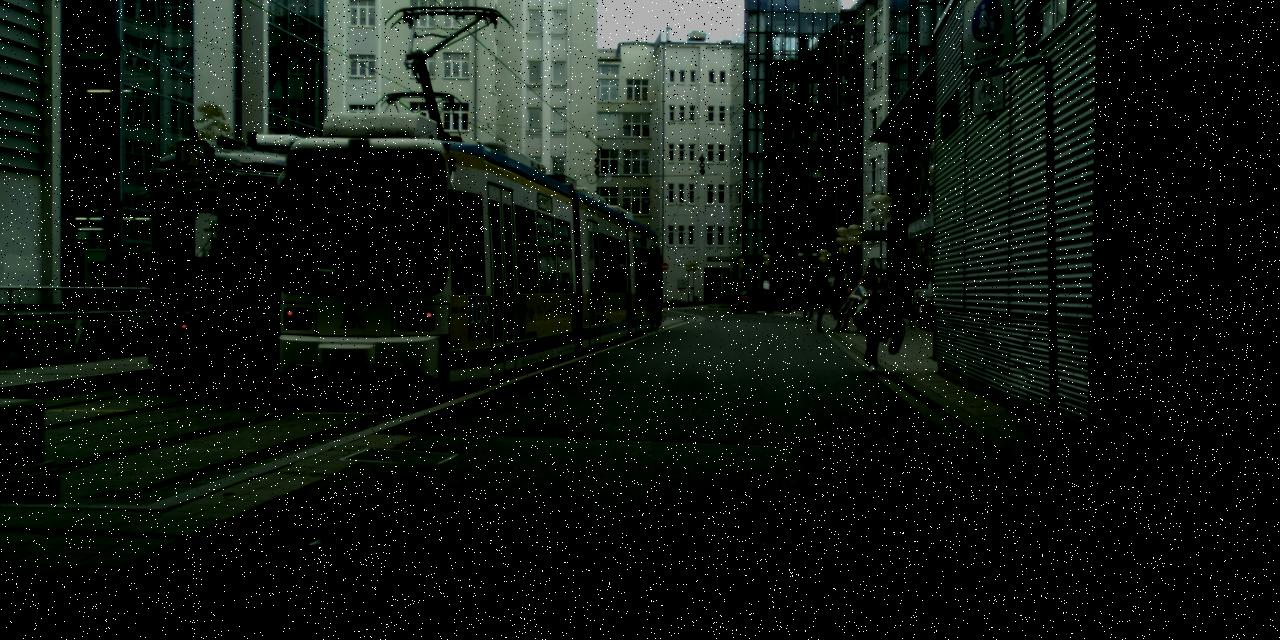ped: (850, 265, 894, 373), (809, 272, 833, 331), (801, 278, 818, 320), (828, 280, 844, 318)
